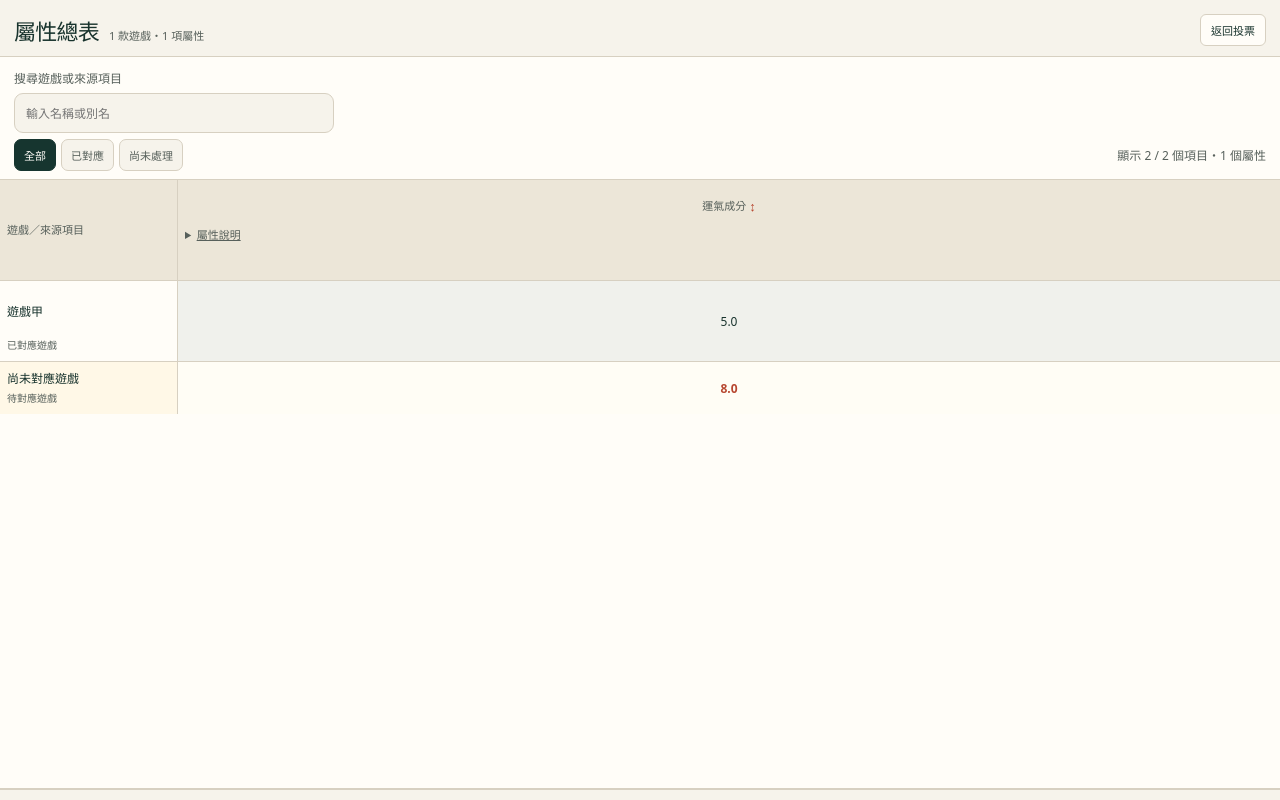
Test case: AttributeTablePage › rejects similarity mode with a toast when no real overlapping data exists
The width and height of the screenshot is (1280, 800).
Click the button "遊戲甲" at [88, 312], box [7,290,170,334]
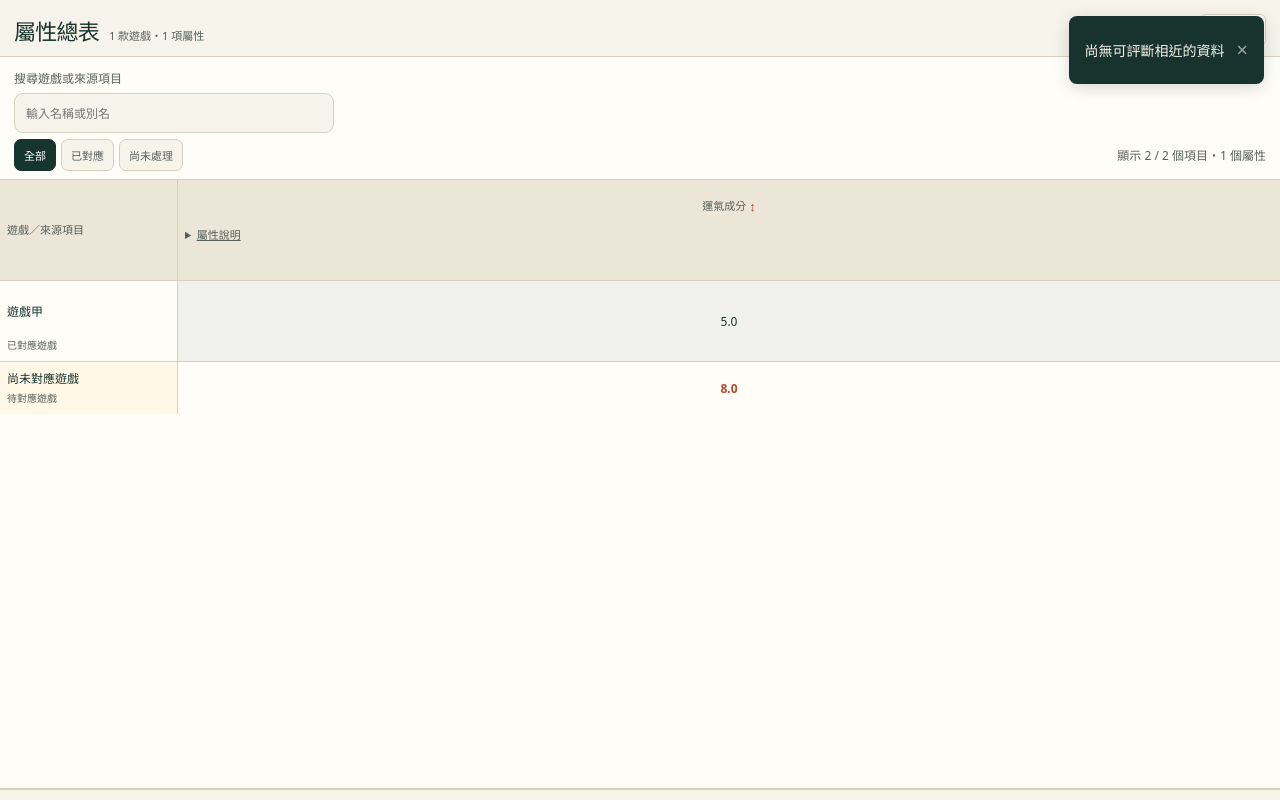
Expected: the text "尚未對應遊戲" is shown, [7,370,79,387]
Expected: the message shows "尚無可評斷相近的資料", [1084,41,1224,60]
